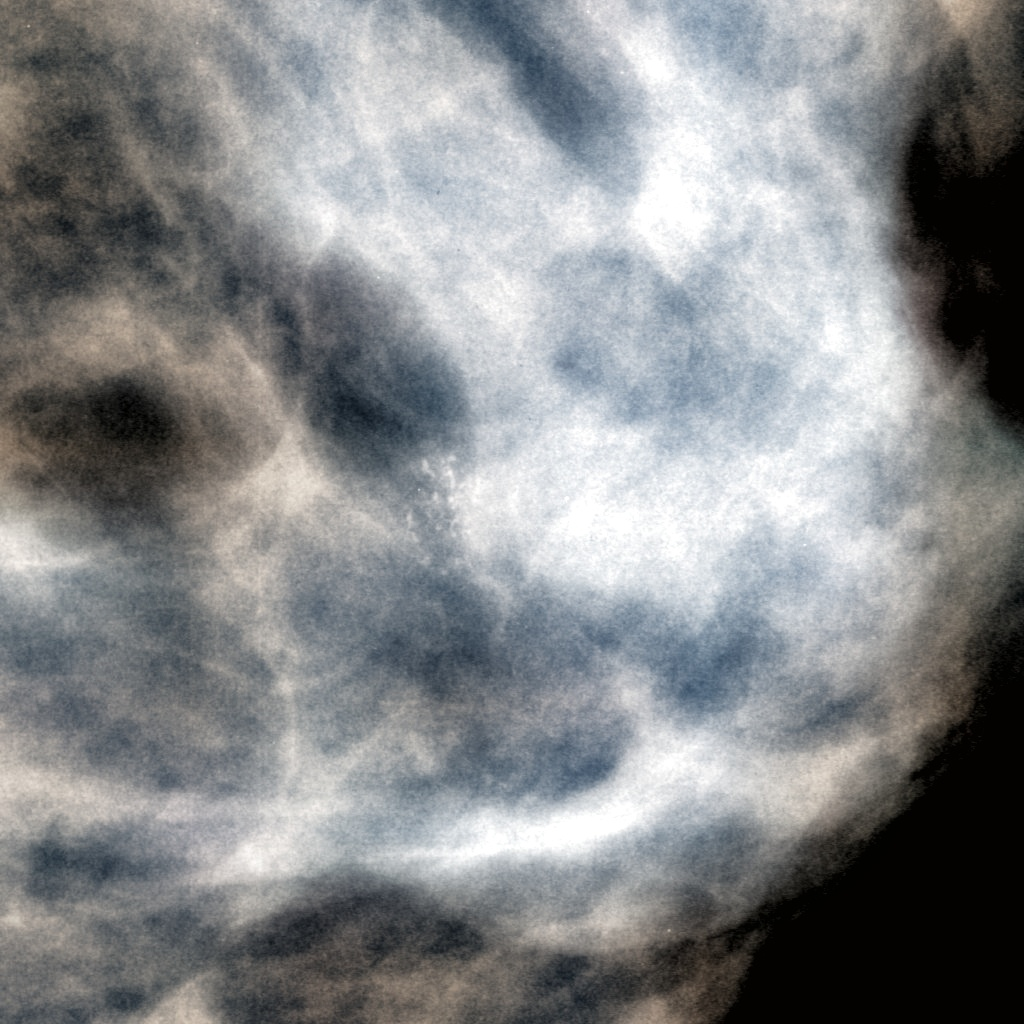tumor: (427, 417, 597, 607)
